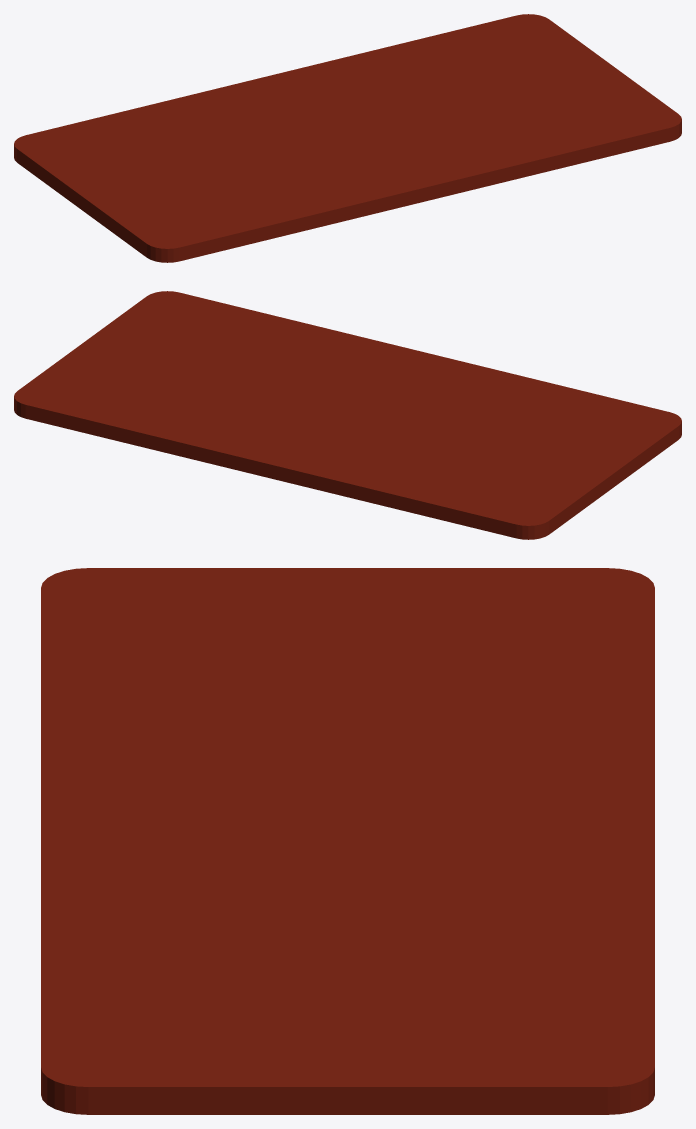
File: CarpetModel.fbx
The picture shows the model from 3 angles, top to bottom: view 1: azimuth 30°, elevation 25°; view 2: azimuth 150°, elevation 25°; view 3: azimuth 270°, elevation 25°; orthographic projection. The views are drawn at different scales.
Parts seen in each view (by area): view 1: Carpet; view 2: Carpet; view 3: Carpet.
Boxes of the visible parts, <box> form: Carpet: <box>14,14,681,262</box>; Carpet: <box>14,291,681,539</box>; Carpet: <box>41,568,654,1114</box>.
Size of the model in its own units: 2 by 1 by 0.05.
